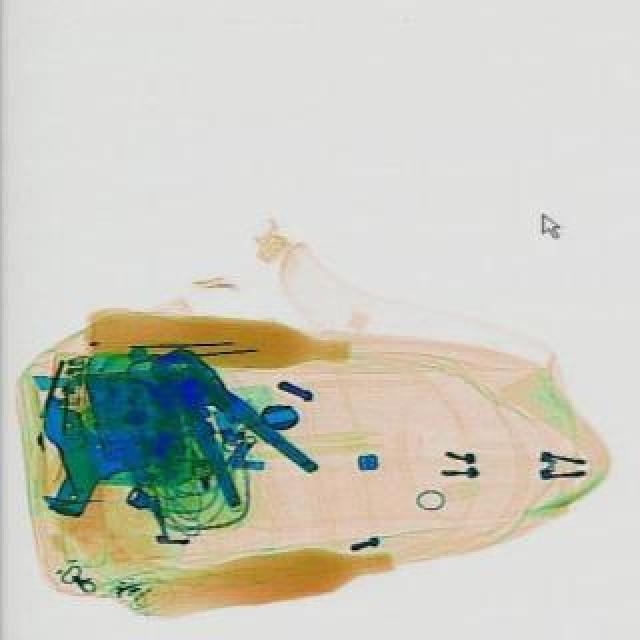wrench: (128, 326, 318, 518)
